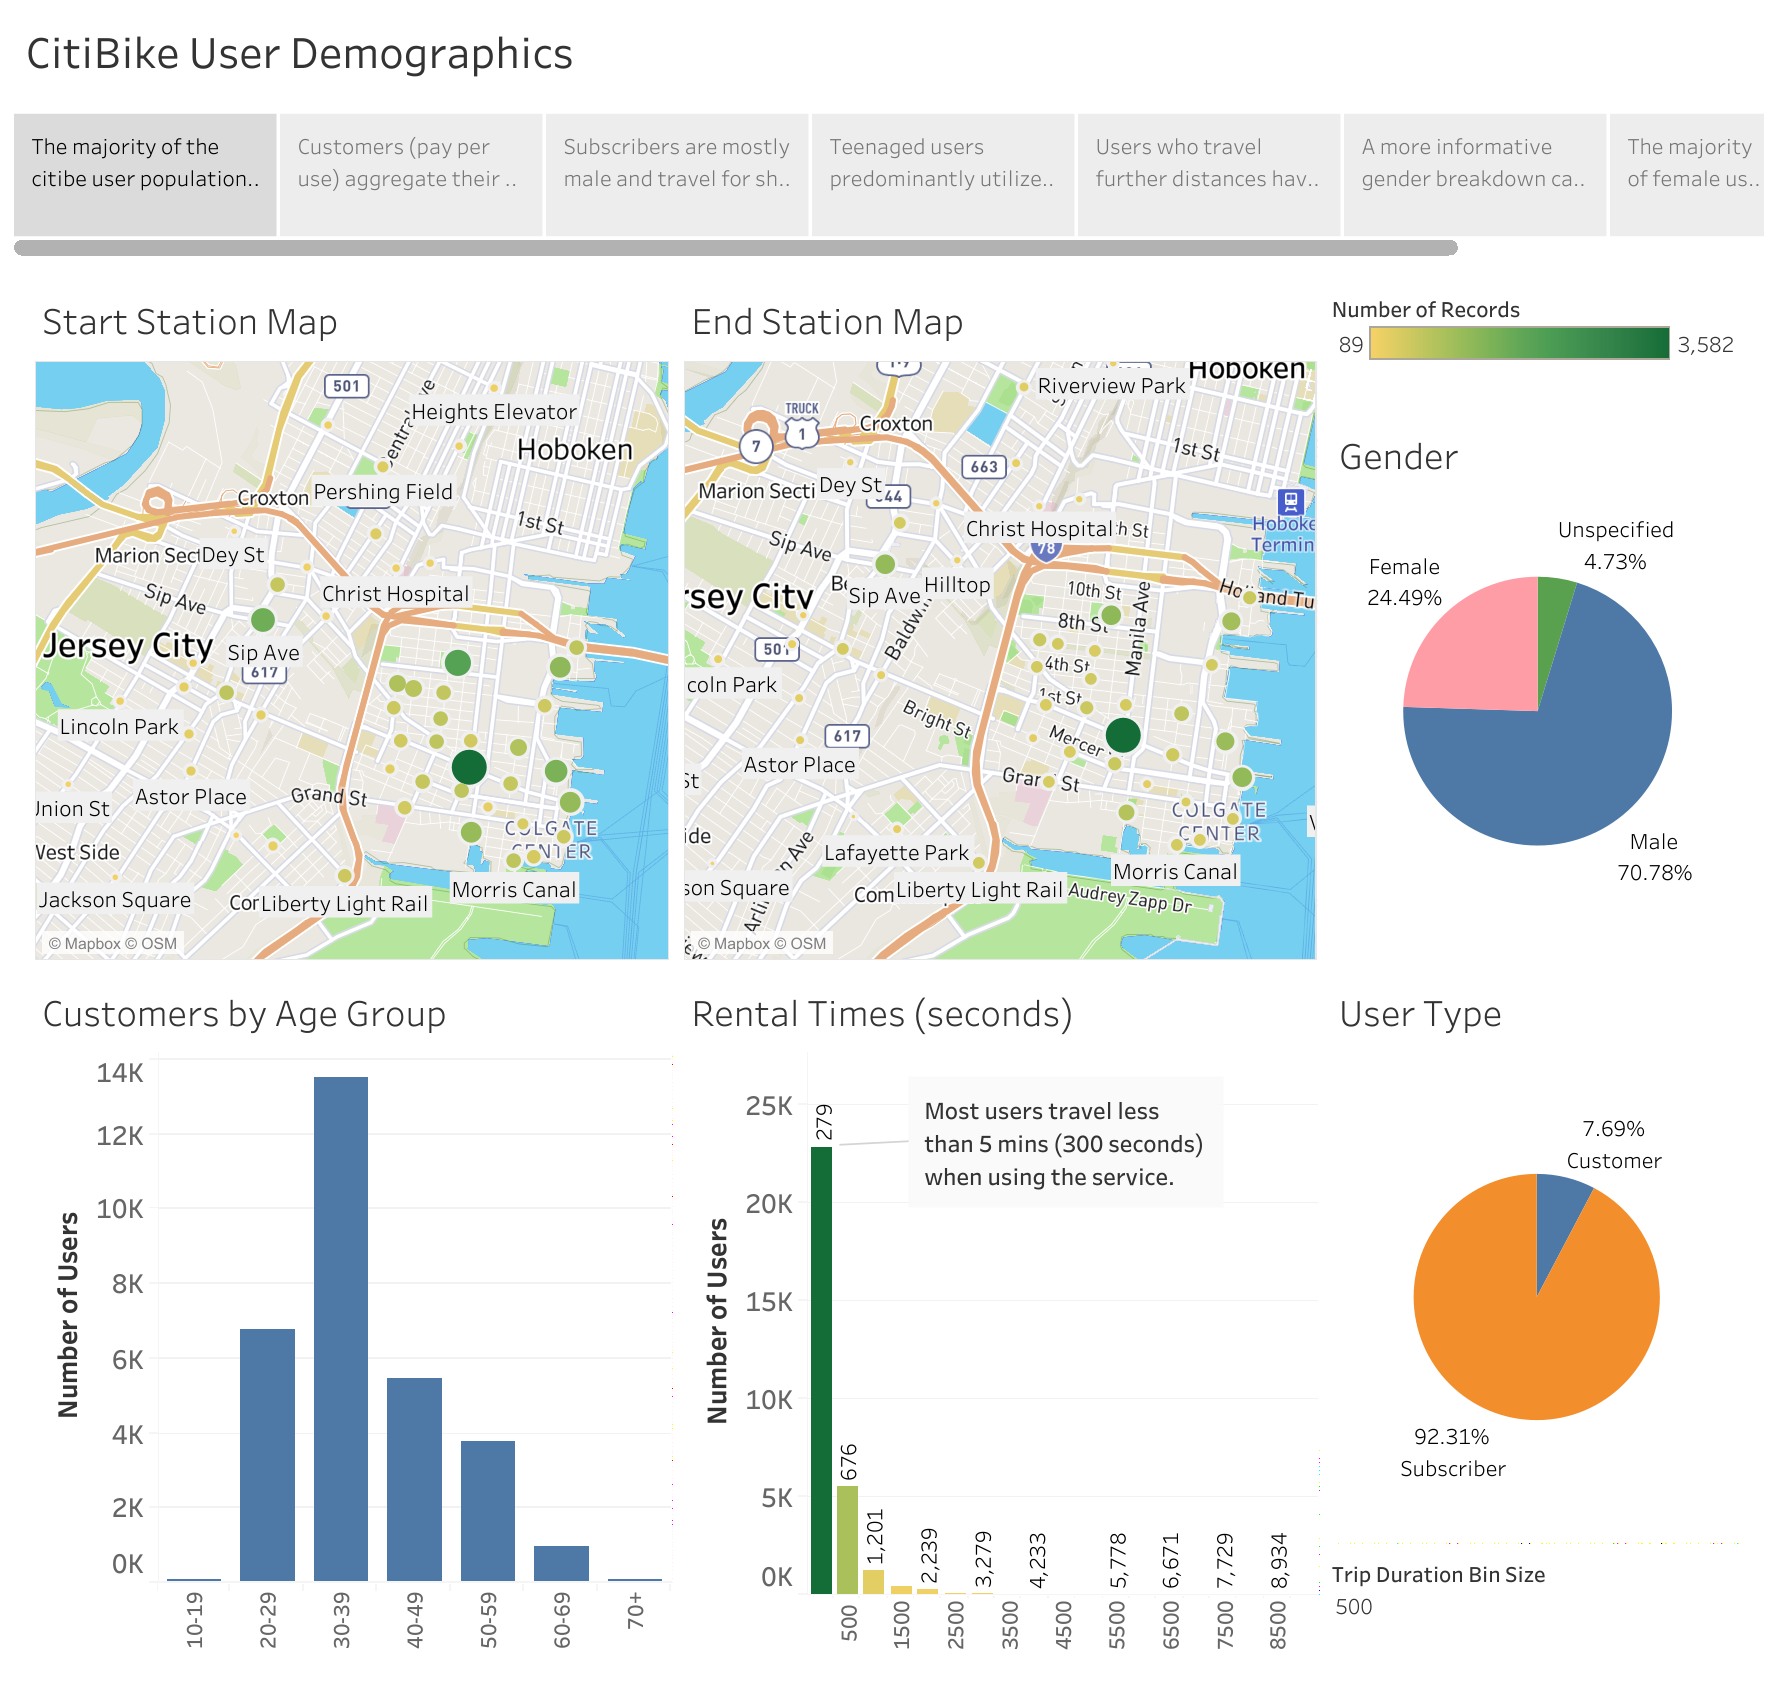

The page's visual inventory and layout, read from the dashboard file:
{"tool":"tableau","page":{"name":"Station DB","canvas":[1000,1000],"units":"permille","ordinal":2},"visuals":[{"type":"worksheet","title":"Start Station Map","mark":"Automatic","rows":["start station latitude"],"cols":["start station longitude"],"box":[6.2,9.6,399.5,490.4]},{"type":"worksheet","title":"End Station Map","mark":"Automatic","rows":["end station latitude"],"cols":["end station longitude"],"box":[405.7,9.6,399.5,490.4]},{"type":"legend","title":"Start Station Map","param":"[federated.1djbkvf0iddfvb16h6xlh0xldu7f].[sum:Number of Records:qk]","box":[805.3,9.6,188.5,92.5]},{"type":"worksheet","title":"Gender","mark":"Pie","box":[805.3,102.2,188.5,358.2]},{"type":"worksheet","title":"Customers by Age Group","mark":"Bar","rows":["Number of Records"],"cols":["Age (bin)"],"box":[6.2,500,399.5,490.4]},{"type":"worksheet","title":"Rental Times","mark":"Automatic","rows":["Number of Records"],"cols":["Tripduration (bin)"],"box":[405.7,500,399.5,490.4]},{"type":"worksheet","title":"User Type","mark":"Pie","box":[805.3,500,188.5,399]},{"type":"parameter","param":"[Parameters].[Parameter 1]","box":[805.3,899,188.5,90.2]}]}

Visuals, with their boxes on the dashboard's canvas, which has no fixed pixel size, in thousandths of its width and height (x1, y1, x2, y2). These are canvas units, not pixel positions in the 1776x1685 screenshot, which may show the page scaled, cropped or inside an application window:
"Start Station Map" worksheet: select_region(6, 10, 406, 500)
"End Station Map" worksheet: select_region(406, 10, 805, 500)
"Start Station Map" legend: select_region(805, 10, 994, 102)
"Gender" worksheet (Pie marks): select_region(805, 102, 994, 460)
"Customers by Age Group" worksheet (Bar marks): select_region(6, 500, 406, 990)
"Rental Times" worksheet: select_region(406, 500, 805, 990)
"User Type" worksheet (Pie marks): select_region(805, 500, 994, 899)
parameter: select_region(805, 899, 994, 989)
